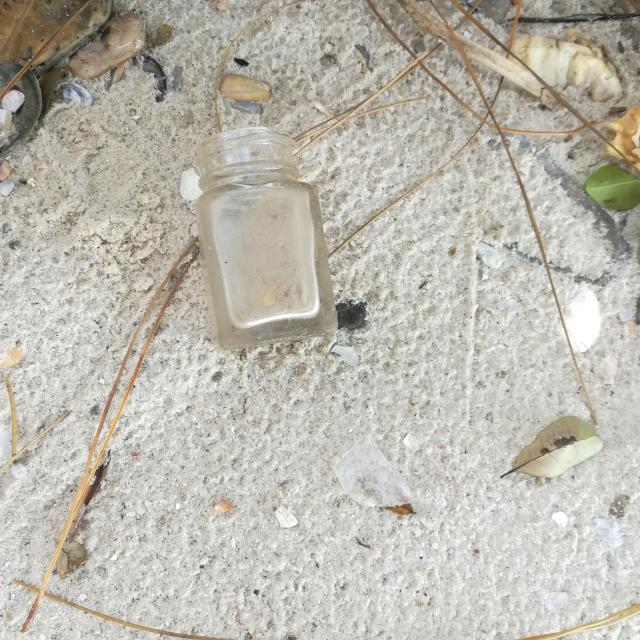litter: (193, 126, 339, 351)
